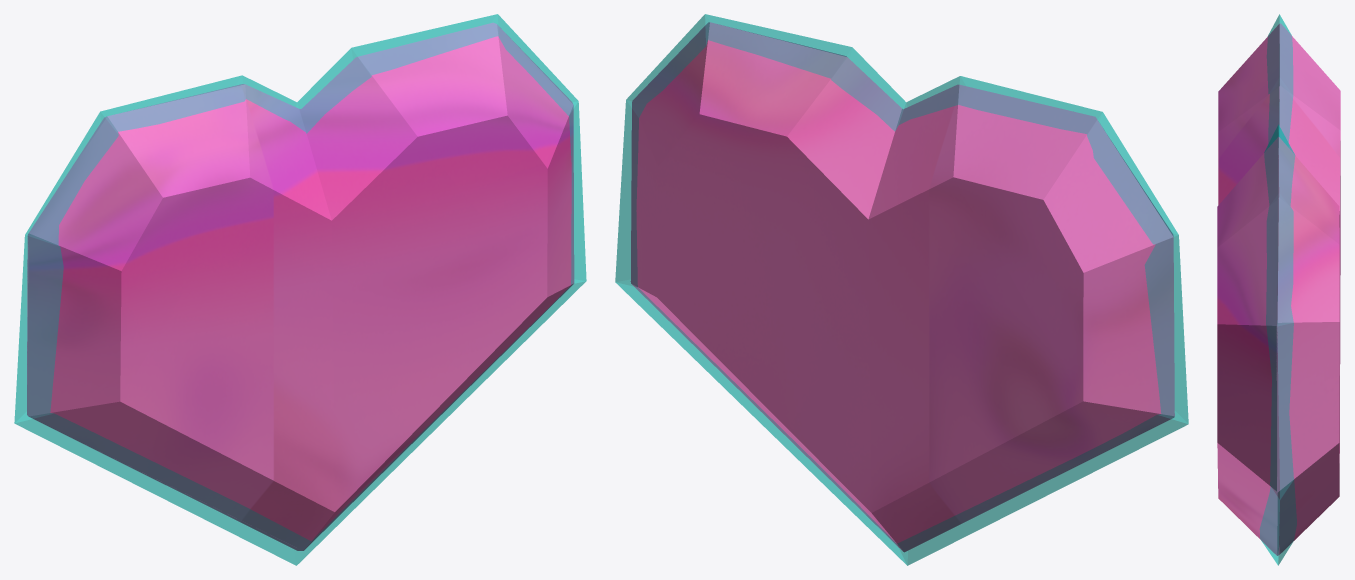
The model's file is LowPolyHeartContainer.glb.
3 views of the same model, side by side, from view 1: azimuth 30°, elevation 25°; view 2: azimuth 150°, elevation 25°; view 3: azimuth 270°, elevation 25° (orthographic). The views are drawn at different scales.
Visible parts, largest first — view 1: Heart, Rim; view 2: Heart, Rim; view 3: Heart, Rim.
Boxes of the visible parts, left/top/right/bottom form: Heart: left=27, top=22, right=574, bottom=550; Rim: left=14, top=14, right=586, bottom=565; Heart: left=630, top=22, right=1174, bottom=552; Rim: left=615, top=14, right=1188, bottom=565; Heart: left=1217, top=23, right=1340, bottom=555; Rim: left=1260, top=14, right=1296, bottom=565.
Bounding box in the file's own units: 3.64 × 3.07 × 0.7341.
Materials: 2 (1 with a texture image).
